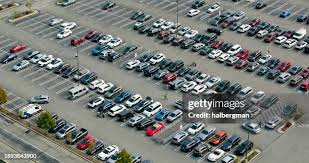car: (132, 96, 152, 112), (97, 145, 118, 160), (55, 123, 75, 138), (221, 135, 240, 150), (180, 137, 200, 151), (234, 140, 252, 155), (167, 60, 184, 75), (143, 102, 161, 116), (197, 126, 215, 140), (77, 135, 95, 149), (86, 140, 103, 154), (128, 114, 146, 127), (260, 95, 278, 108), (48, 119, 66, 132), (167, 77, 186, 89), (105, 85, 122, 98), (146, 122, 163, 135), (116, 109, 134, 121), (193, 144, 211, 156), (136, 118, 155, 129), (166, 109, 182, 122), (80, 72, 97, 84), (114, 90, 131, 102), (187, 122, 204, 134), (207, 149, 224, 161), (98, 100, 115, 112), (242, 122, 260, 133), (107, 105, 125, 116), (237, 86, 252, 99), (282, 103, 297, 116), (125, 94, 141, 106), (265, 116, 281, 128), (226, 83, 242, 95), (91, 45, 109, 55), (250, 91, 265, 103), (191, 84, 207, 95), (87, 96, 103, 107), (46, 58, 62, 69), (184, 69, 200, 80), (12, 60, 29, 70), (205, 76, 220, 87), (143, 65, 158, 76), (149, 53, 164, 64), (38, 55, 53, 66), (201, 33, 216, 44), (88, 79, 104, 89), (245, 106, 261, 116), (53, 64, 70, 73), (30, 95, 49, 103), (62, 67, 77, 77), (153, 70, 168, 80), (276, 72, 291, 82), (135, 62, 150, 72), (181, 81, 196, 91), (121, 45, 137, 54), (266, 57, 279, 68), (227, 44, 240, 55), (210, 39, 224, 49), (107, 37, 121, 47), (247, 51, 261, 61), (195, 73, 209, 83), (9, 44, 26, 52), (235, 60, 250, 69), (98, 35, 113, 44), (220, 18, 235, 27), (277, 61, 290, 71), (289, 75, 302, 85), (219, 42, 232, 52), (217, 53, 230, 63), (23, 51, 39, 59), (138, 53, 154, 61), (180, 39, 194, 48), (177, 66, 191, 75), (208, 49, 222, 58), (288, 65, 302, 74), (184, 30, 198, 39), (282, 38, 296, 47), (237, 24, 251, 33), (56, 0, 76, 6), (221, 154, 236, 162), (169, 23, 181, 33), (264, 32, 276, 42), (192, 33, 205, 42), (199, 46, 212, 55), (229, 22, 242, 31), (267, 69, 280, 78), (90, 33, 103, 42), (207, 3, 220, 12), (225, 56, 238, 65), (258, 54, 271, 63), (152, 18, 165, 27), (256, 66, 269, 75), (246, 62, 259, 71), (71, 38, 85, 46), (57, 30, 71, 38), (130, 11, 144, 19), (232, 11, 244, 20), (237, 49, 249, 58), (295, 40, 307, 49), (267, 24, 279, 33), (163, 34, 175, 43), (209, 16, 221, 25), (178, 26, 190, 35), (207, 27, 222, 34), (102, 1, 115, 9), (192, 43, 205, 51), (191, 0, 204, 8), (299, 80, 308, 91), (137, 14, 151, 21), (85, 31, 97, 39), (157, 31, 169, 39), (257, 21, 269, 29), (49, 18, 62, 25), (249, 18, 260, 26), (300, 67, 308, 78), (187, 9, 199, 16), (256, 30, 268, 37), (133, 22, 145, 29), (131, 154, 141, 162), (275, 36, 286, 43), (279, 10, 290, 17), (275, 28, 286, 35), (255, 1, 266, 8), (283, 30, 294, 37), (174, 100, 183, 108), (297, 15, 307, 21)
